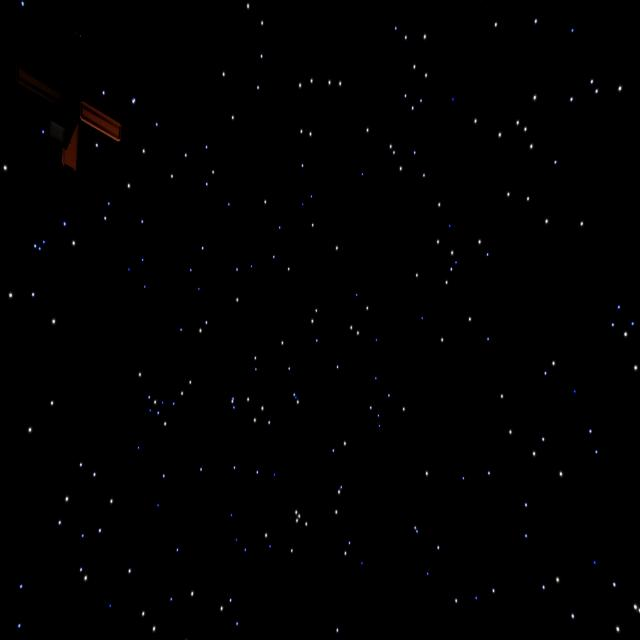medium_debris: (20, 53, 139, 180)
